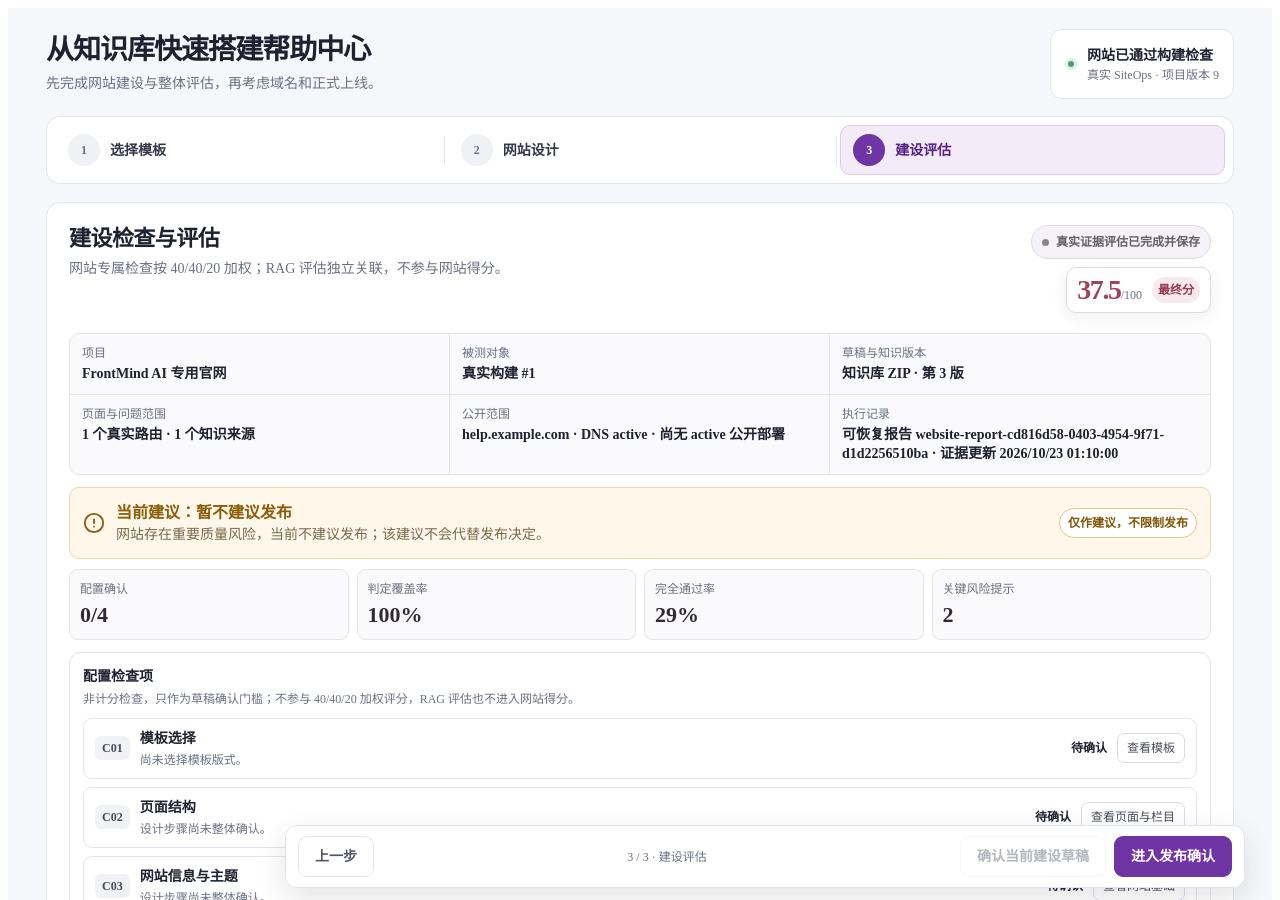
Test: redesigned live website builder setup › shows the true approved build and records publish audit only after the server accepts it
The width and height of the screenshot is (1280, 900).
Check: the text "网站已通过构建检查" is shown, box [1087,45,1219,66]
Check: the text "真实 SiteOps · 项目版本 9" is shown, box [1087,66,1219,84]
Click the button "进入发布确认": click(1173, 856) [1114,836,1232,877]
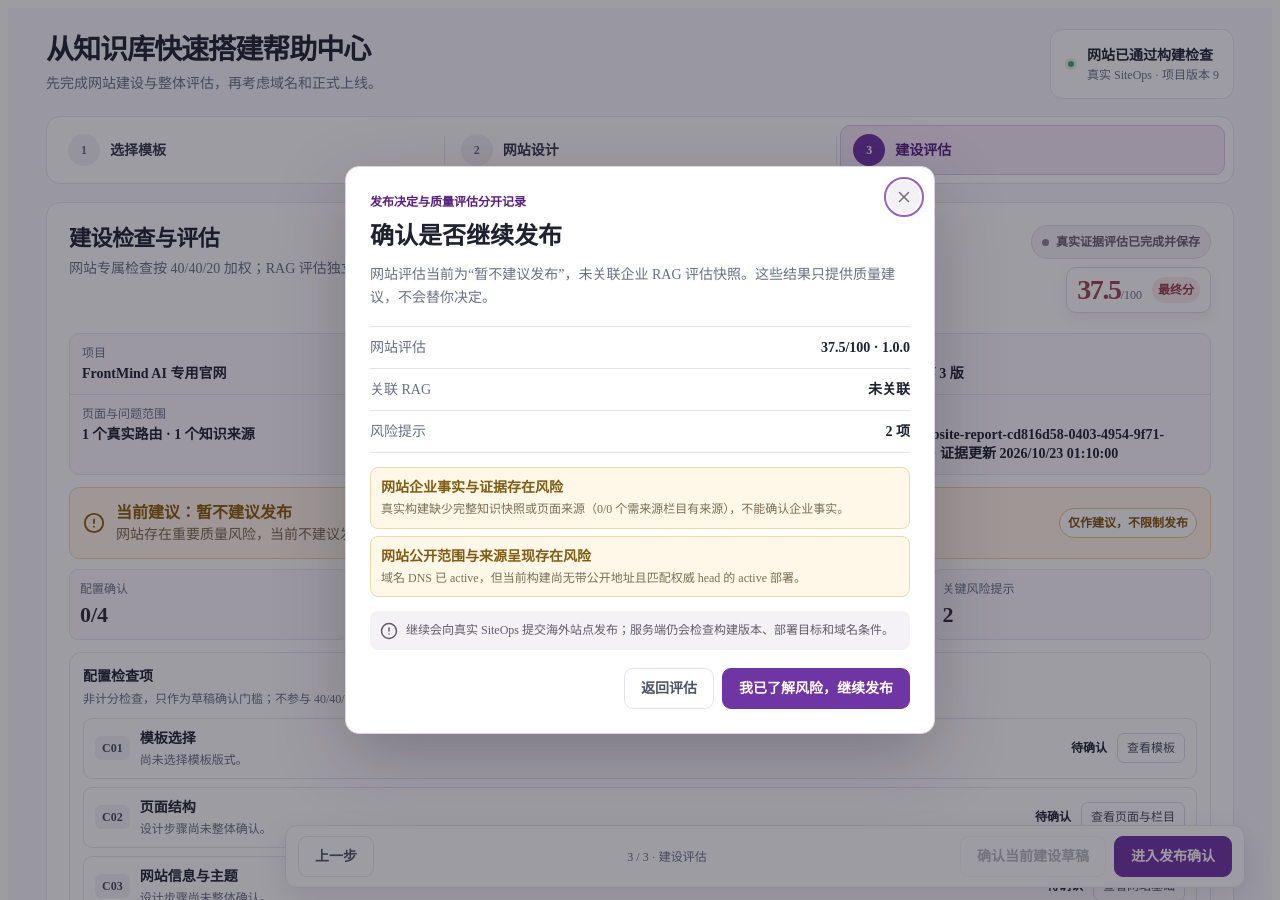
Click the button "我已了解风险，继续发布": click(816, 688) [722,668,910,709]
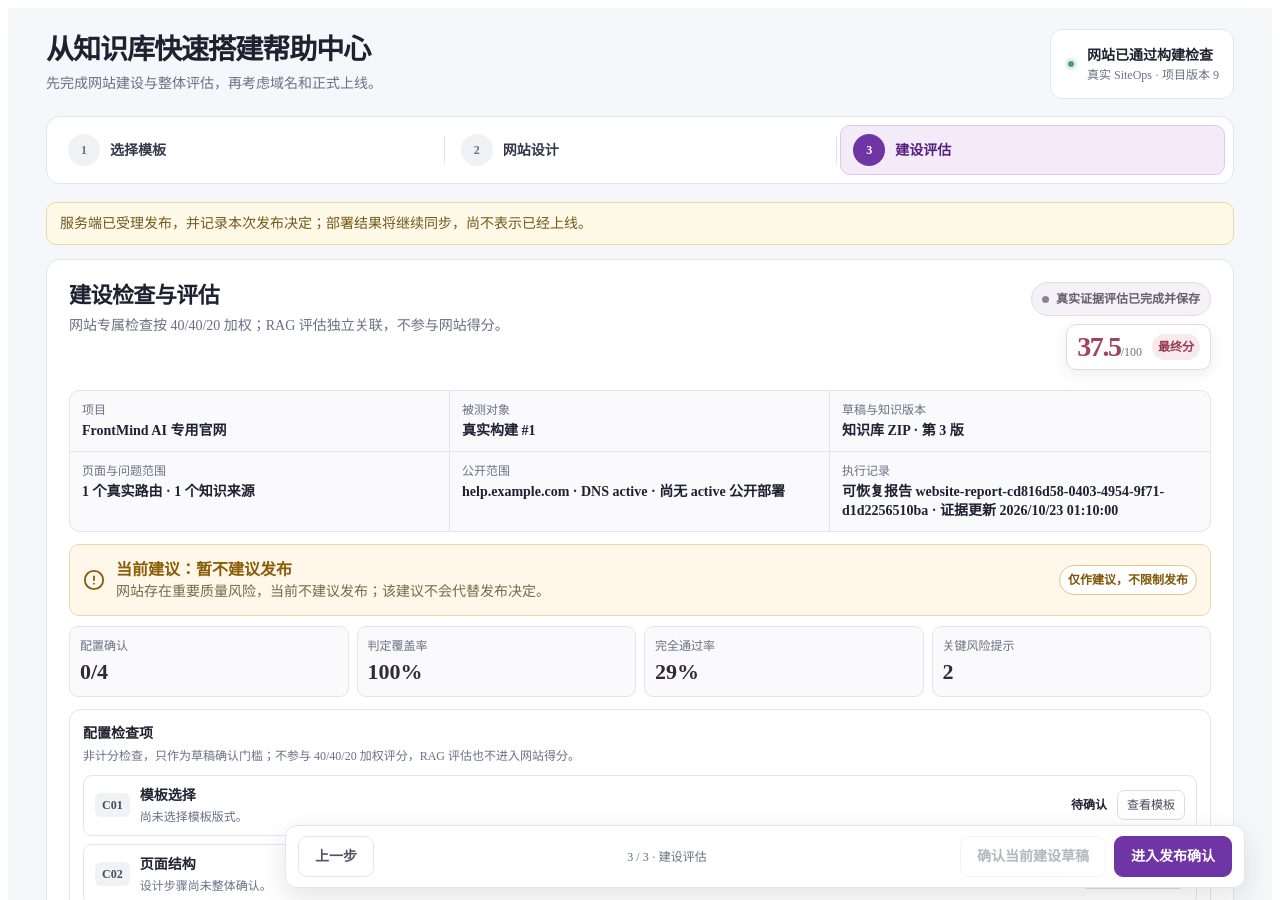
Check: the text "服务端已受理发布，并记录本次发布决定；部署结果将继续同步，尚不表示已经上线。" is shown, box [46,202,1234,246]
